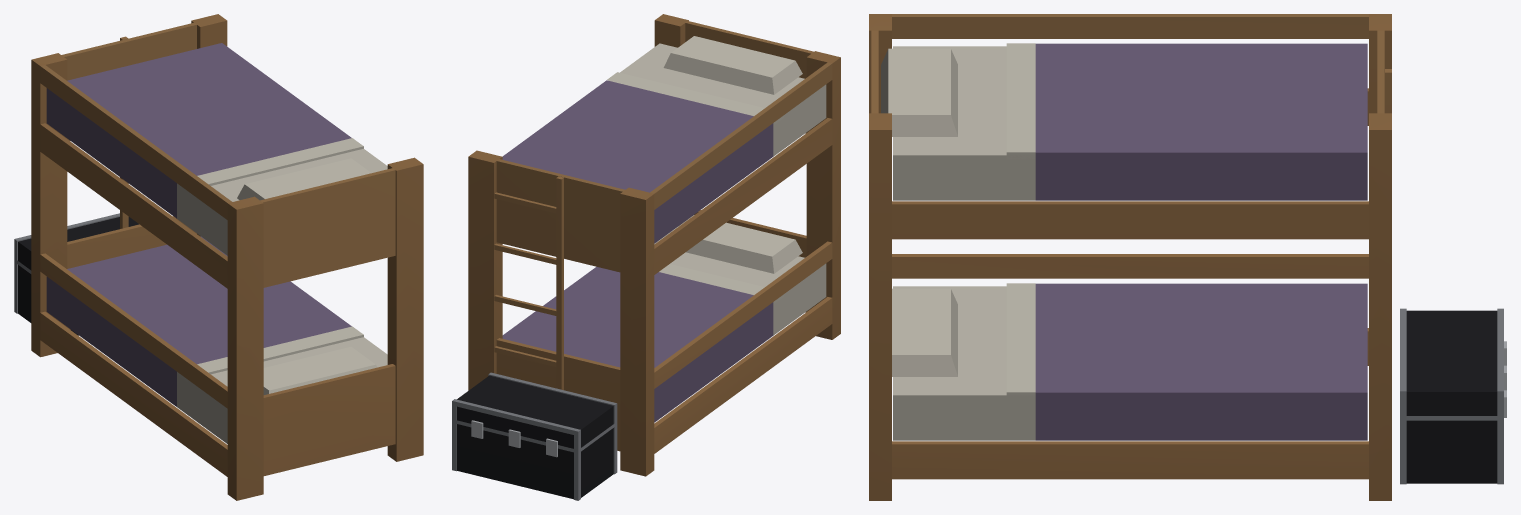
The model's file is bed.bunk_chest.pine.glb.
3 views of the same model, side by side, from view 1: azimuth 30°, elevation 25°; view 2: azimuth 150°, elevation 25°; view 3: azimuth 270°, elevation 25° (orthographic). The views are drawn at different scales.
Visible parts, largest first — view 1: bed_bunk_chest_pine; view 2: bed_bunk_chest_pine; view 3: bed_bunk_chest_pine.
Part boxes in pixels (left/top/right/bottom): bed_bunk_chest_pine: left=14, top=14, right=423, bottom=500; bed_bunk_chest_pine: left=452, top=14, right=840, bottom=500; bed_bunk_chest_pine: left=869, top=14, right=1506, bottom=500.
Size of what is drawn, in the model's own units: 1.14 by 1.7 by 2.65.
